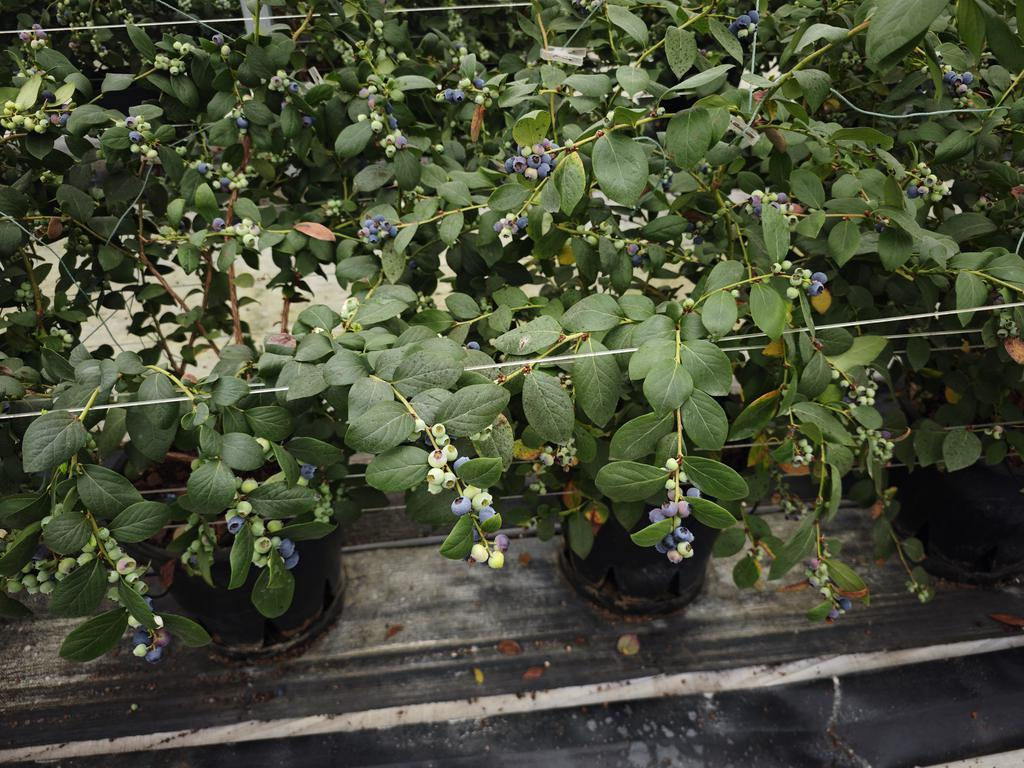RipeBlueBerry: (443, 500, 474, 519), (814, 271, 831, 290), (512, 154, 527, 172), (281, 542, 293, 560)
